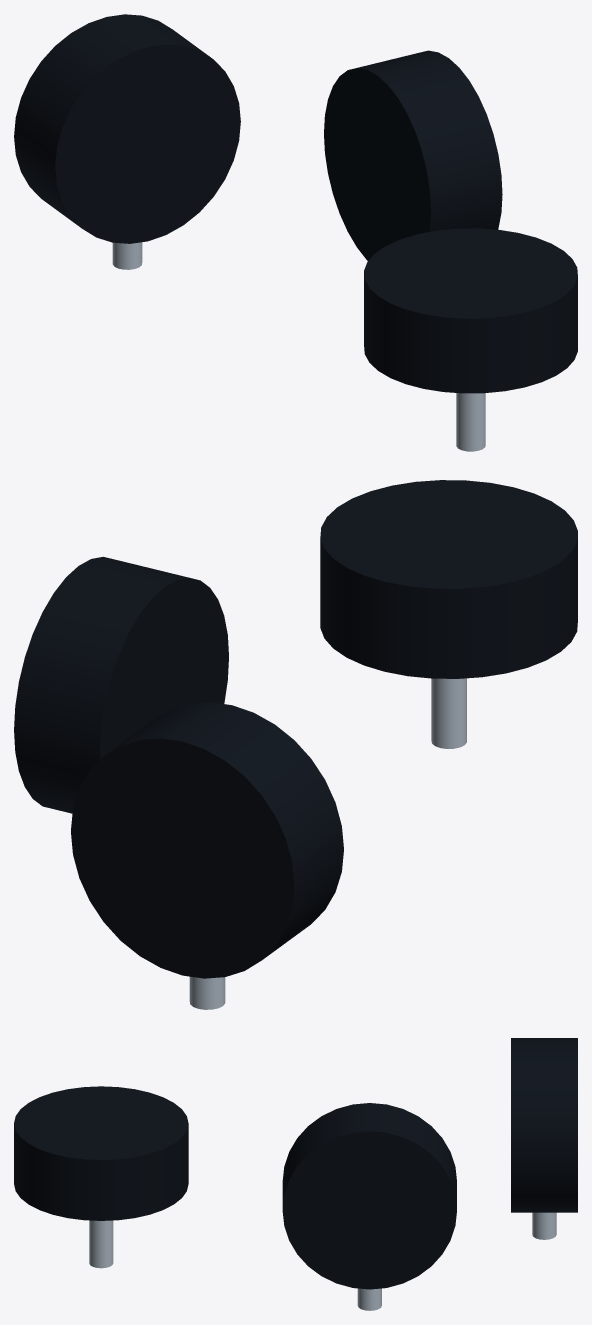
The model's file is Component_reaction_wheels.glb.
3 views of the same model, one above another, from view 1: azimuth 30°, elevation 25°; view 2: azimuth 150°, elevation 25°; view 3: azimuth 270°, elevation 25° (orthographic). The views are drawn at different scales.
Parts seen in each view (by area): view 1: Wheel_motor_housing.002, Wheel_motor_housing, Wheel_motor_housing.001, Wheel_deck_support, Wheel_deck_support.002; view 2: Wheel_motor_housing.002, Wheel_motor_housing, Wheel_motor_housing.001, Wheel_deck_support, Wheel_deck_support.002; view 3: Wheel_motor_housing.001, Wheel_motor_housing, Wheel_motor_housing.002, Wheel_deck_support, Wheel_deck_support.002, Wheel_deck_support.001.
Boxes of the visible parts, x1,y1,x2,y2 form: Wheel_motor_housing.002: [14, 14, 240, 243]; Wheel_motor_housing: [364, 228, 577, 393]; Wheel_motor_housing.001: [324, 50, 502, 260]; Wheel_deck_support: [456, 393, 485, 451]; Wheel_deck_support.002: [112, 242, 142, 269]; Wheel_motor_housing.002: [71, 702, 343, 978]; Wheel_motor_housing: [320, 480, 577, 678]; Wheel_motor_housing.001: [14, 556, 228, 813]; Wheel_deck_support: [431, 678, 466, 748]; Wheel_deck_support.002: [189, 976, 225, 1009]; Wheel_motor_housing.001: [282, 1103, 456, 1289]; Wheel_motor_housing: [14, 1086, 188, 1220]; Wheel_motor_housing.002: [511, 1038, 577, 1212]; Wheel_deck_support: [89, 1220, 113, 1268]; Wheel_deck_support.002: [532, 1212, 556, 1239]; Wheel_deck_support.001: [357, 1288, 381, 1310].
Size of the model in its own units: 0.43 by 0.31 by 0.84.
